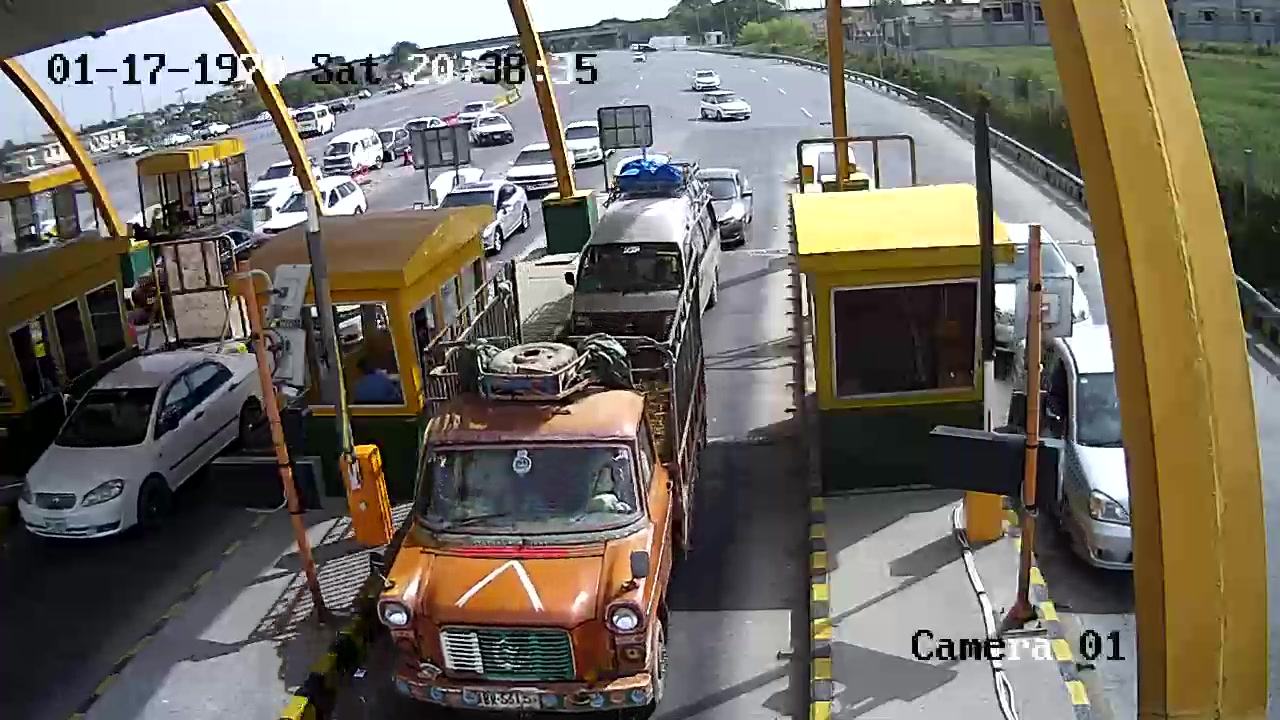F3: (376, 256, 735, 719)
